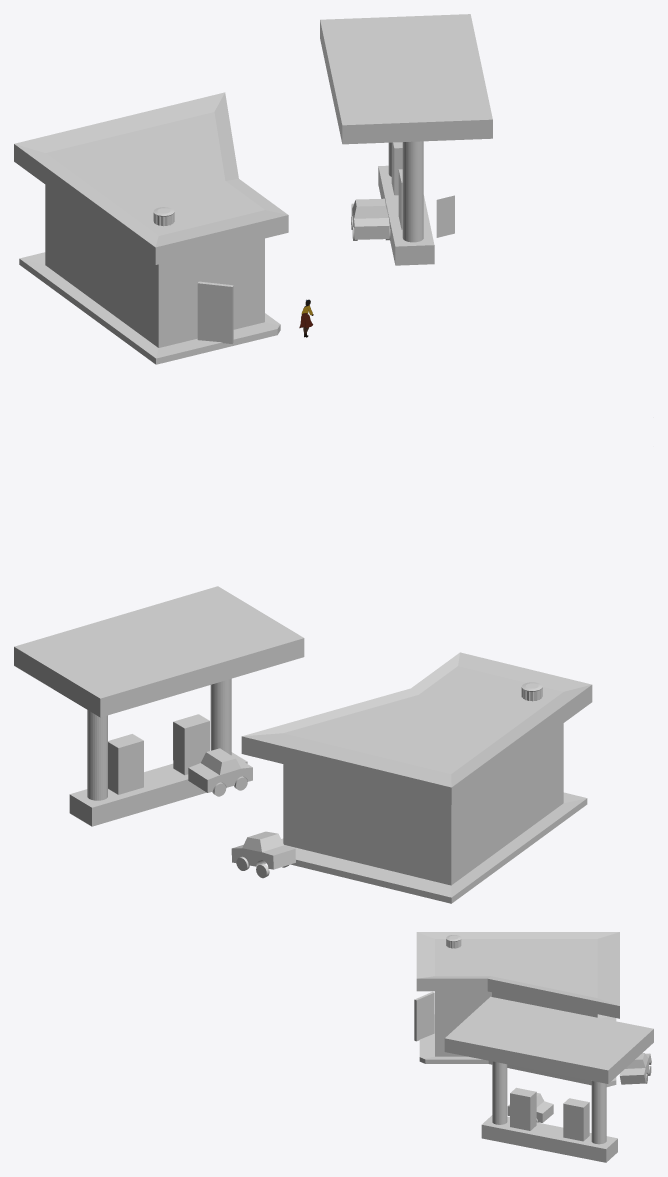
3 views of the same model, one above another, from view 1: azimuth 30°, elevation 25°; view 2: azimuth 150°, elevation 25°; view 3: azimuth 270°, elevation 25° (orthographic). The views are drawn at different scales.
Parts seen in each view (by area): view 1: building.001, carport_roof.001, carport_base.001, carport_pillar_near.001, door.001, car_body.001, chester.001; view 2: building.001, carport_roof.001, carport_base.001, car_body.001, carport_pillar_far.001, wrecked_car_body.001, carport_pillar_near.001; view 3: building.001, carport_roof.001, carport_base.001, carport_pillar_near.001, carport_pillar_far.001, door.001, wrecked_car_body.001, car_body.001.
Boxes of the visible parts, x1=… form: building.001: x1=14, y1=92, x2=288, y2=364; carport_roof.001: x1=320, y1=14, x2=492, y2=144; carport_base.001: x1=378, y1=142, x2=434, y2=265; carport_pillar_near.001: x1=402, y1=141, x2=423, y2=242; door.001: x1=197, y1=281, x2=233, y2=343; car_body.001: x1=351, y1=198, x2=389, y2=239; chester.001: x1=436, y1=195, x2=454, y2=237; building.001: x1=241, y1=652, x2=592, y2=903; carport_roof.001: x1=14, y1=586, x2=304, y2=717; carport_base.001: x1=69, y1=714, x2=247, y2=826; car_body.001: x1=188, y1=748, x2=252, y2=792; carport_pillar_far.001: x1=87, y1=710, x2=107, y2=800; wrecked_car_body.001: x1=231, y1=831, x2=295, y2=869; carport_pillar_near.001: x1=210, y1=678, x2=231, y2=755; building.001: x1=416, y1=932, x2=619, y2=1086; carport_roof.001: x1=444, y1=996, x2=653, y2=1083; carport_base.001: x1=481, y1=1087, x2=617, y2=1162; carport_pillar_near.001: x1=492, y1=1061, x2=507, y2=1124; carport_pillar_far.001: x1=591, y1=1081, x2=606, y2=1144; door.001: x1=414, y1=991, x2=434, y2=1041; wrecked_car_body.001: x1=619, y1=1053, x2=651, y2=1084; car_body.001: x1=507, y1=1093, x2=553, y2=1122.
Size of what is drawn, in the model's own units: 4920 by 1628 by 8463.
